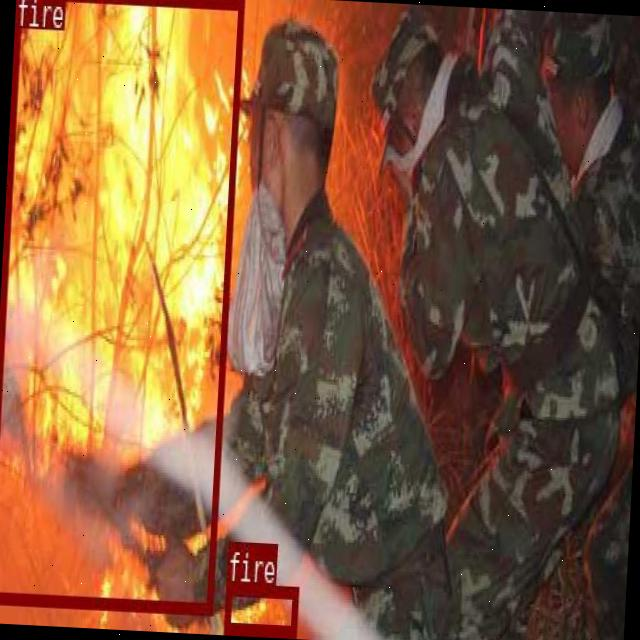fire: (0, 0, 244, 611), (222, 580, 298, 634)
